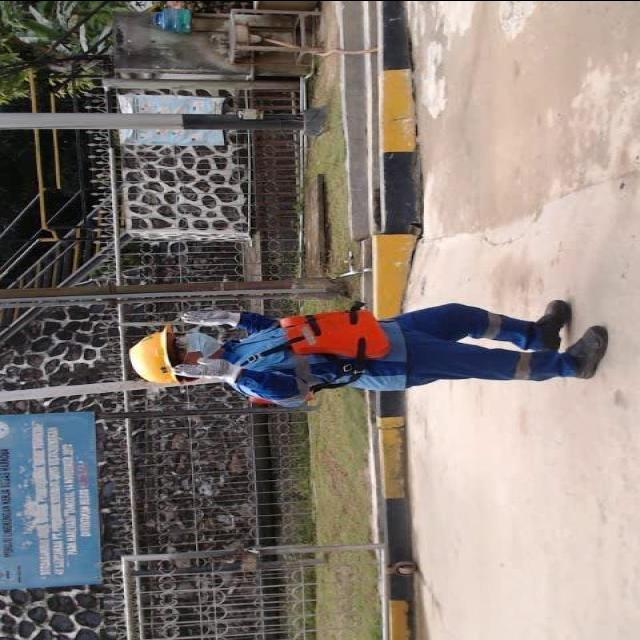helmet: (122, 320, 183, 388)
